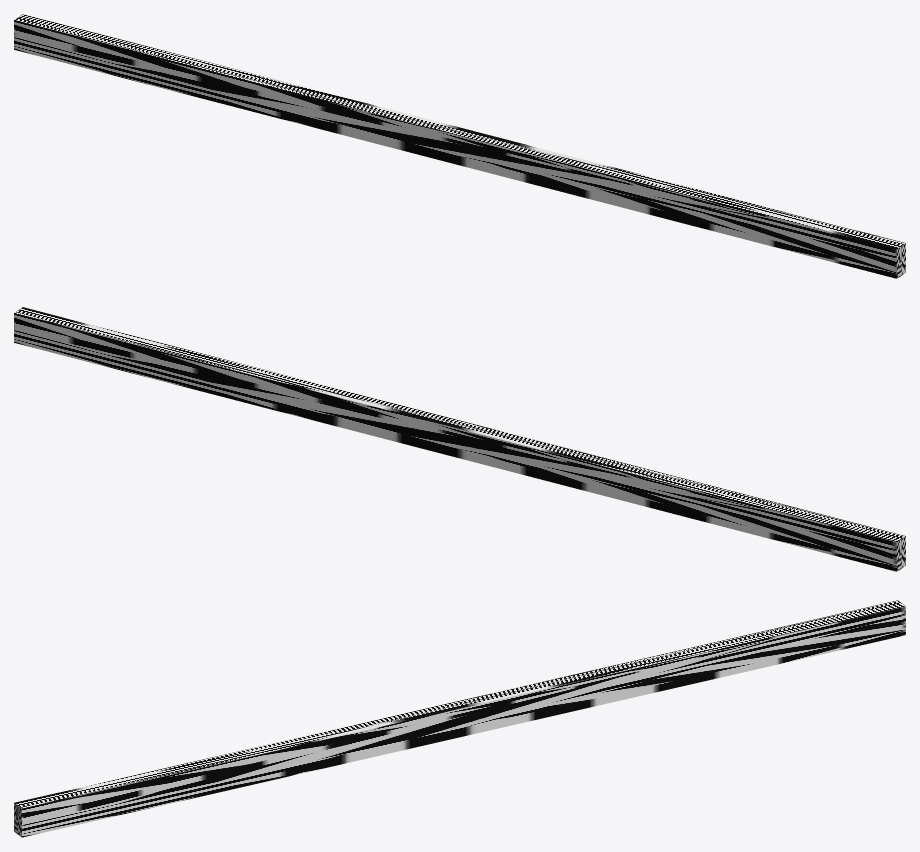
3 renders of one model, top to bottom at view 1: azimuth 30°, elevation 25°; view 2: azimuth 210°, elevation 25°; view 3: azimuth 270°, elevation 25°, orthographic. The views are drawn at different scales.
Visible parts, largest first — view 1: Cube.013; view 2: Cube.013; view 3: Cube.013.
Part boxes in pixels (x1,y1,x2,y2): Cube.013: [14, 14, 905, 278]; Cube.013: [14, 307, 905, 571]; Cube.013: [14, 600, 905, 837].
Bounding box in the file's own units: 8.81 × 0.5648 × 15.92.
1 material, 1 textured.
